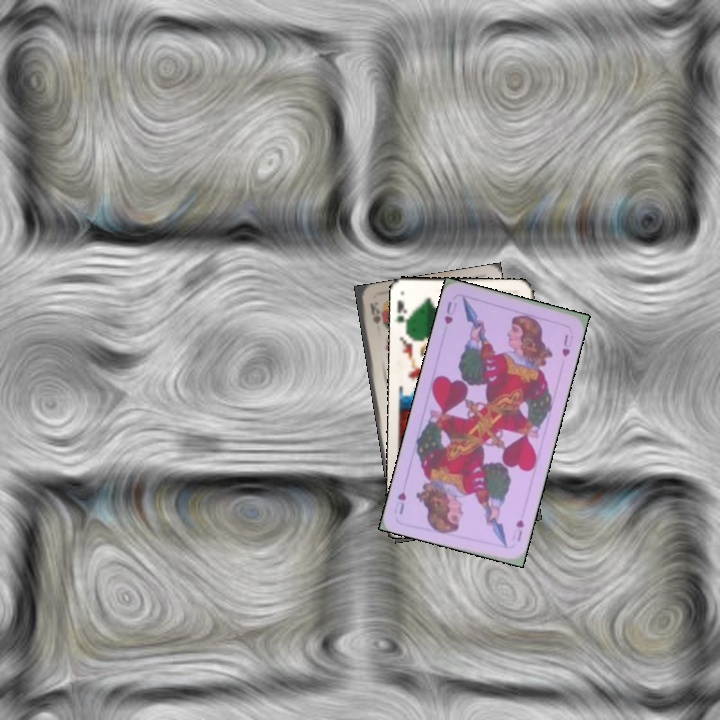GK: (393, 295, 412, 333)
HU: (440, 298, 459, 327), (512, 515, 526, 544)
SK: (366, 298, 383, 327)
